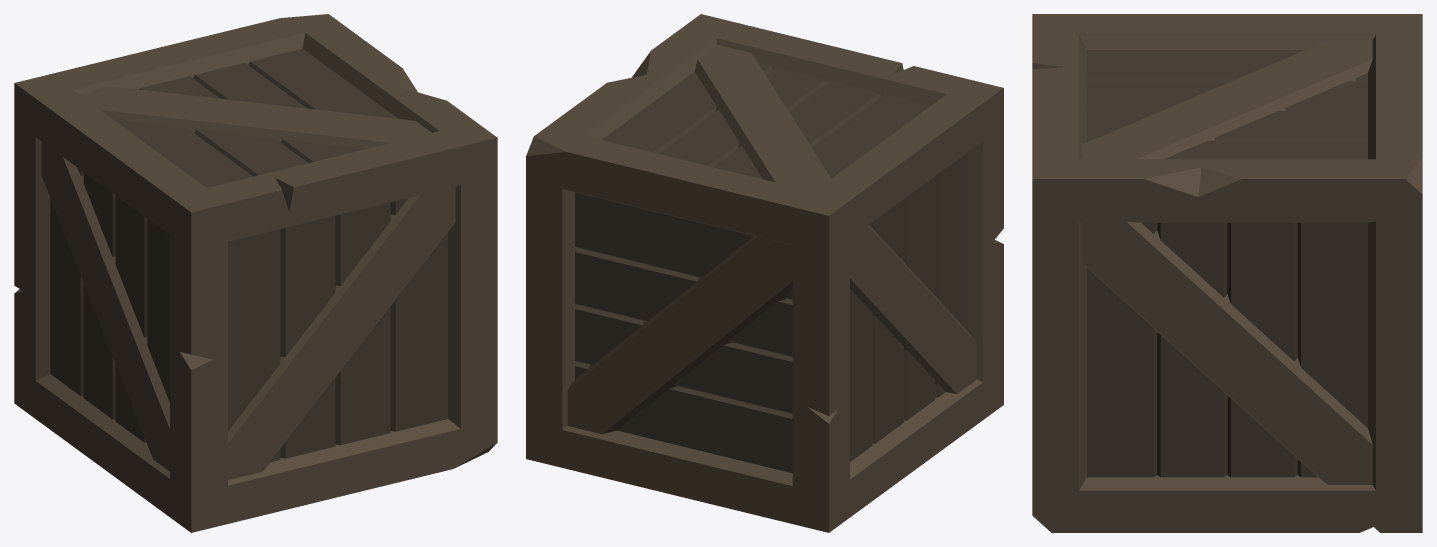
Rendered from Crate.fbx.
3 renders of one model, left to right at view 1: azimuth 30°, elevation 25°; view 2: azimuth 150°, elevation 25°; view 3: azimuth 270°, elevation 25°, orthographic. The views are drawn at different scales.
Parts seen in each view (by area): view 1: Crate; view 2: Crate; view 3: Crate.
Part boxes in pixels (box(x1,y1,x2,y2)): Crate: box(14, 14, 497, 532); Crate: box(526, 14, 1003, 532); Crate: box(1032, 14, 1422, 532).
Bounding box in the file's own units: 1 × 1 × 1.
